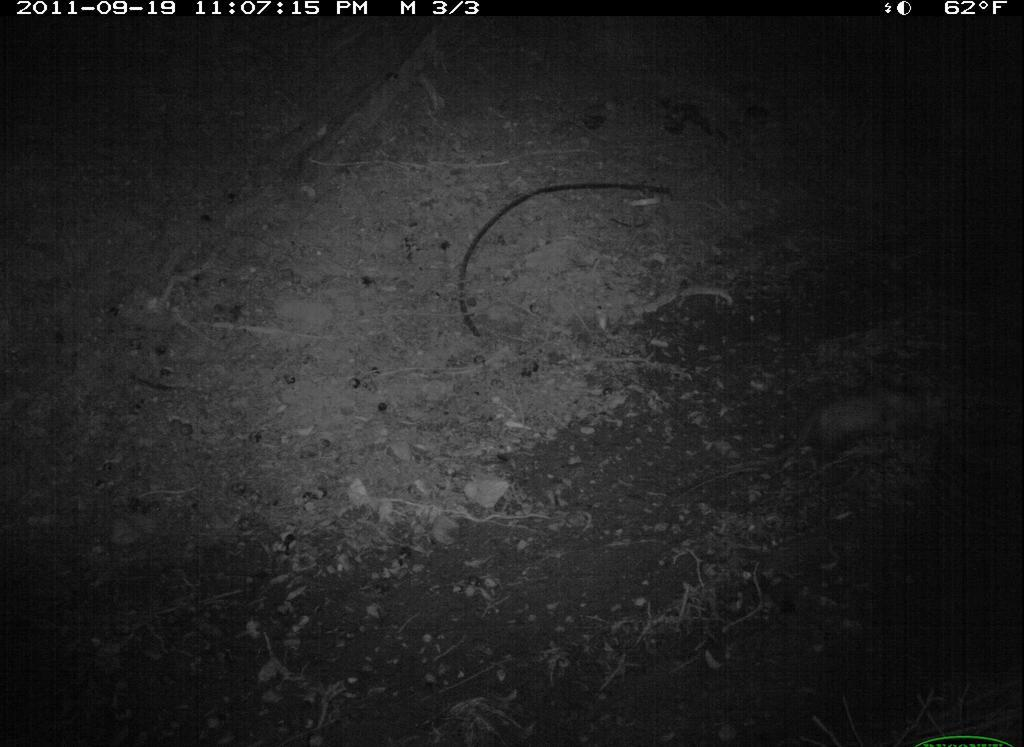opossum: (721, 376, 976, 491)
